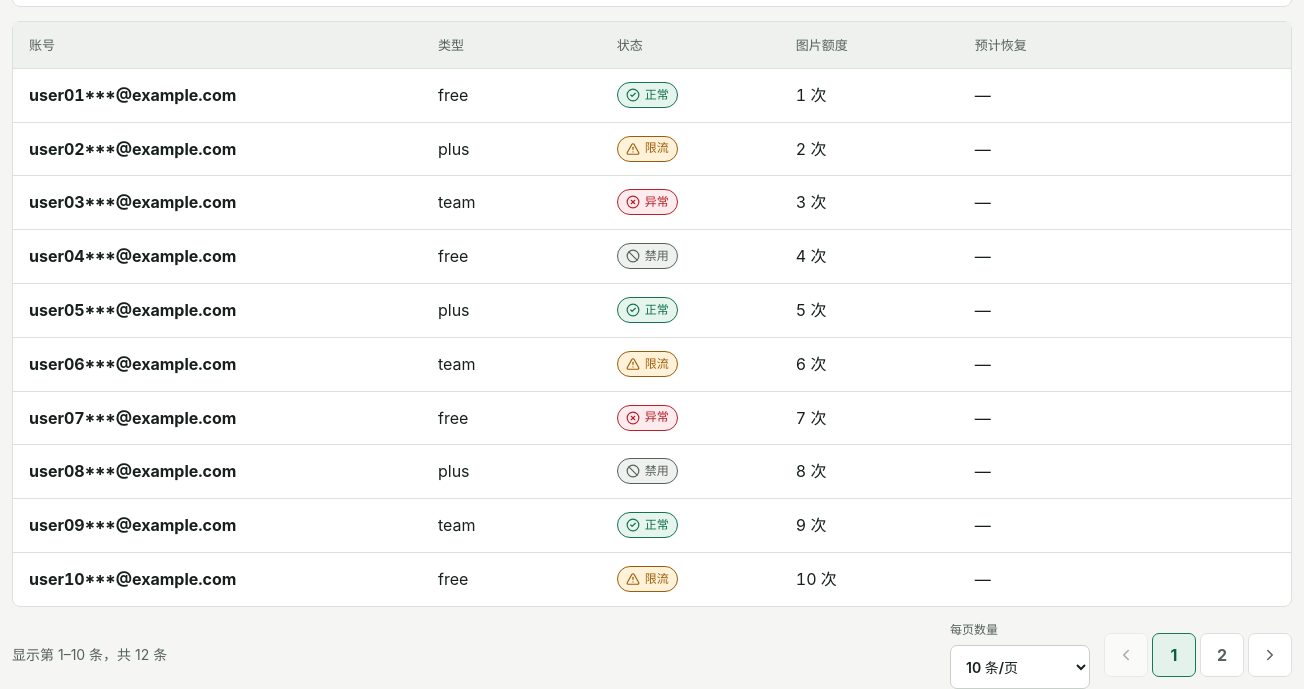
Test: 号池账号筛选与分页 › 默认每页十条并支持页码、前后翻页和切换每页数量
(page scrolled)
Check: the text "显示第 1–10 条，共 12 条" is shown, box left=12, top=646, right=167, bottom=663
Check: the text "user11***@example.com" is not shown
Click the button named "第 2 页" at (1222, 655), box left=1200, top=633, right=1244, bottom=677
(page scrolled)
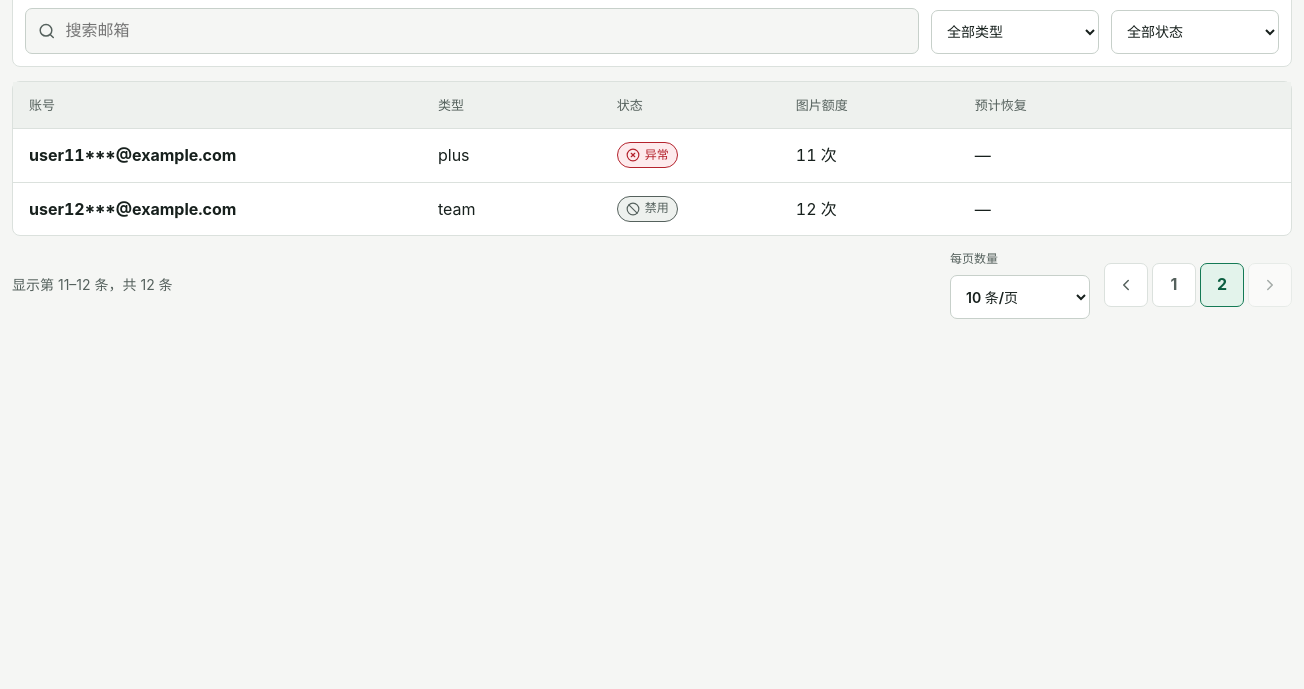
Check: the text "显示第 11–12 条，共 12 条" is shown, box left=12, top=276, right=173, bottom=293
Check: the text "user11***@example.com" is shown, box left=29, top=145, right=236, bottom=165
Check: the button named "下一页" is disabled, box left=1248, top=263, right=1292, bottom=307
Click the button named "上一页" at (1126, 285), box left=1104, top=263, right=1148, bottom=307
(page scrolled)
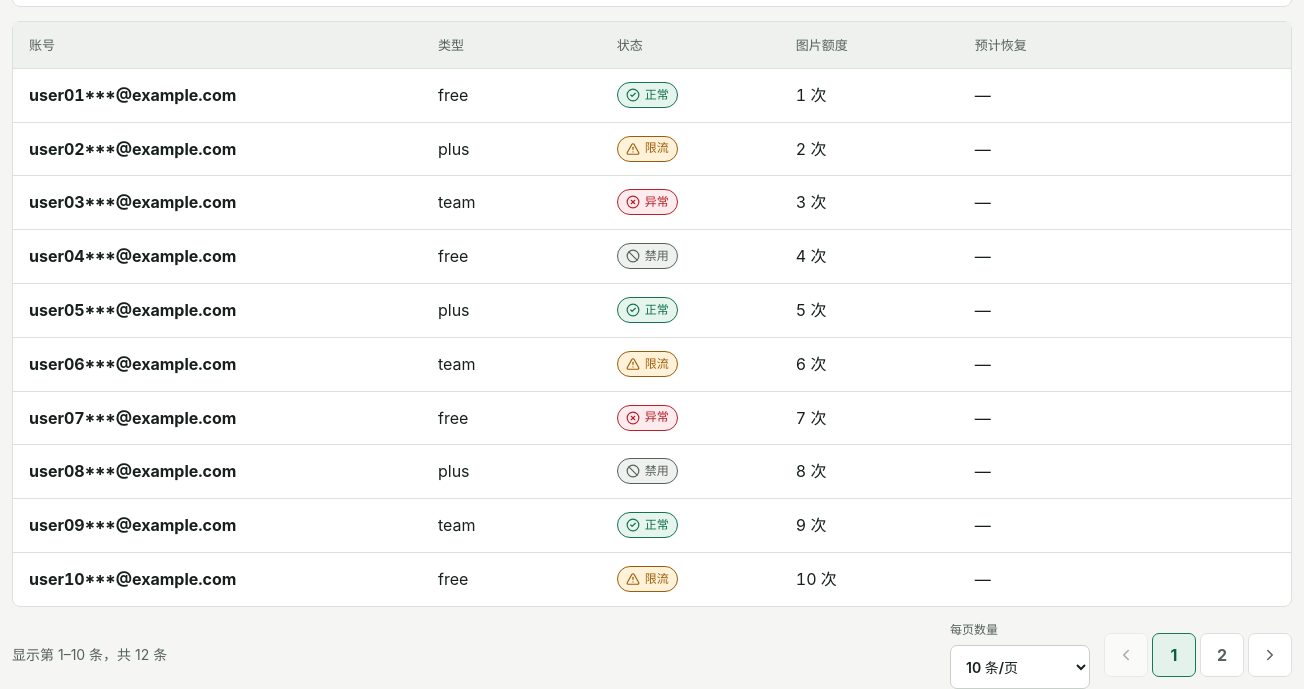
Check: the text "显示第 1–10 条，共 12 条" is shown, box left=12, top=646, right=167, bottom=663
Select "20 条/页" in the dropdown labelled "每页数量" at (1020, 667), box left=950, top=645, right=1090, bottom=688
(page scrolled)
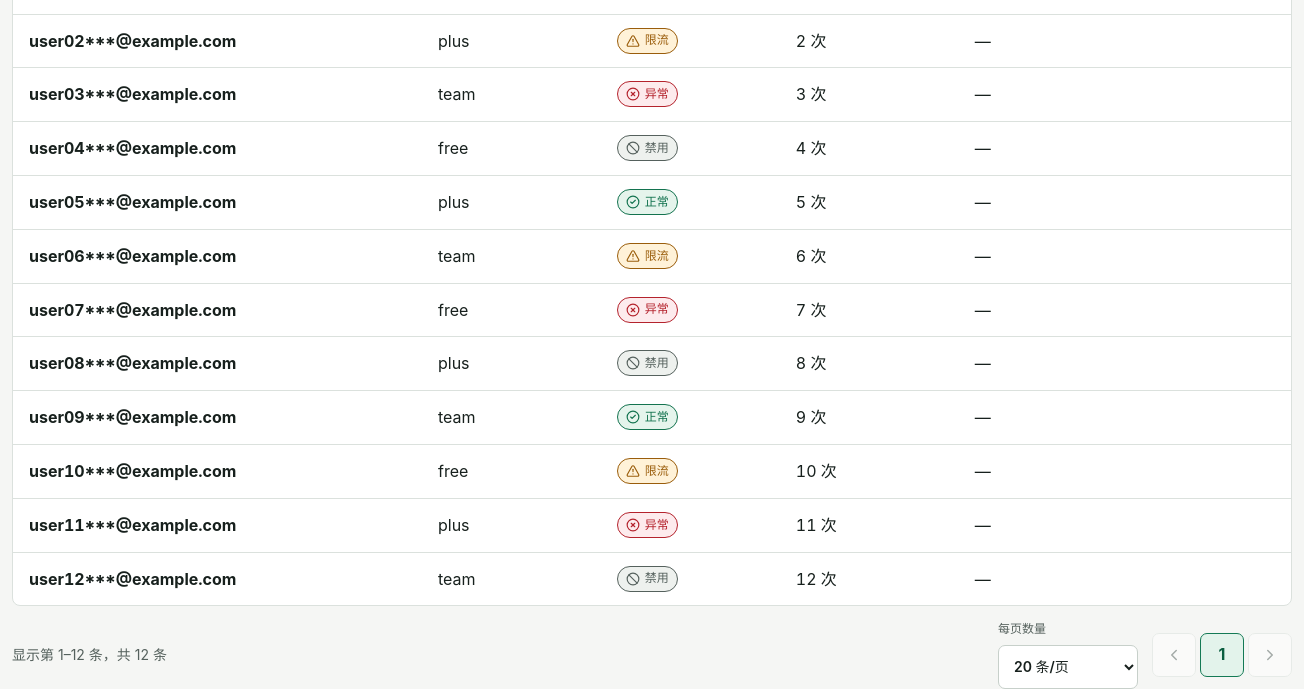
Check: the text "显示第 1–12 条，共 12 条" is shown, box left=12, top=646, right=167, bottom=663
Check: the text "user12***@example.com" is shown, box left=29, top=569, right=236, bottom=589
